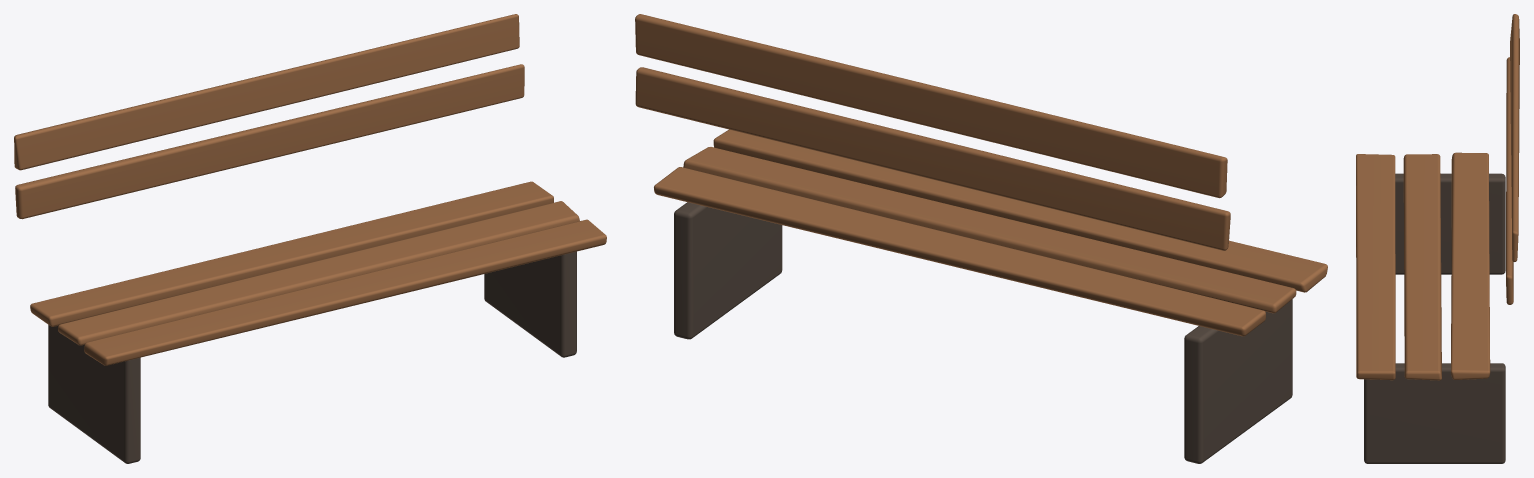
Rendered from bench.glb.
3 views of the same model, side by side, from view 1: azimuth 30°, elevation 25°; view 2: azimuth 150°, elevation 25°; view 3: azimuth 270°, elevation 25° (orthographic). The views are drawn at different scales.
Parts seen in each view (by area): view 1: bench_slat.004, bench_slat.003, bench_slat.002, bench_slat, bench_slat.001, bench_leg, bench_leg.001; view 2: bench_slat.004, bench_slat.003, bench_slat, bench_slat.001, bench_slat.002, bench_leg, bench_leg.001; view 3: bench_leg.001, bench_slat.002, bench_slat, bench_slat.001, bench_leg, bench_slat.004, bench_slat.003.
Part boxes in pixels (box(x1,y1,x2,y2)): bench_slat.004: box(14, 14, 519, 170); bench_slat.003: box(15, 64, 524, 219); bench_slat.002: box(84, 219, 606, 365); bench_slat: box(30, 181, 553, 326); bench_slat.001: box(58, 201, 579, 345); bench_leg: box(48, 325, 140, 463); bench_leg.001: box(484, 251, 576, 357); bench_slat.004: box(635, 14, 1227, 198); bench_slat.003: box(635, 67, 1230, 250); bench_slat: box(654, 167, 1265, 336); bench_slat.001: box(683, 147, 1296, 313); bench_slat.002: box(713, 129, 1327, 292); bench_leg: box(1184, 299, 1292, 463); bench_leg.001: box(674, 202, 782, 339); bench_leg.001: box(1364, 363, 1505, 463); bench_slat.002: box(1356, 154, 1395, 380); bench_slat: box(1451, 152, 1490, 379); bench_slat.001: box(1403, 154, 1441, 380); bench_leg: box(1395, 173, 1505, 274); bench_slat.004: box(1510, 14, 1519, 261); bench_slat.003: box(1506, 57, 1513, 304).
Size of the model in its own units: 2.21 by 1.14 by 0.6952.
